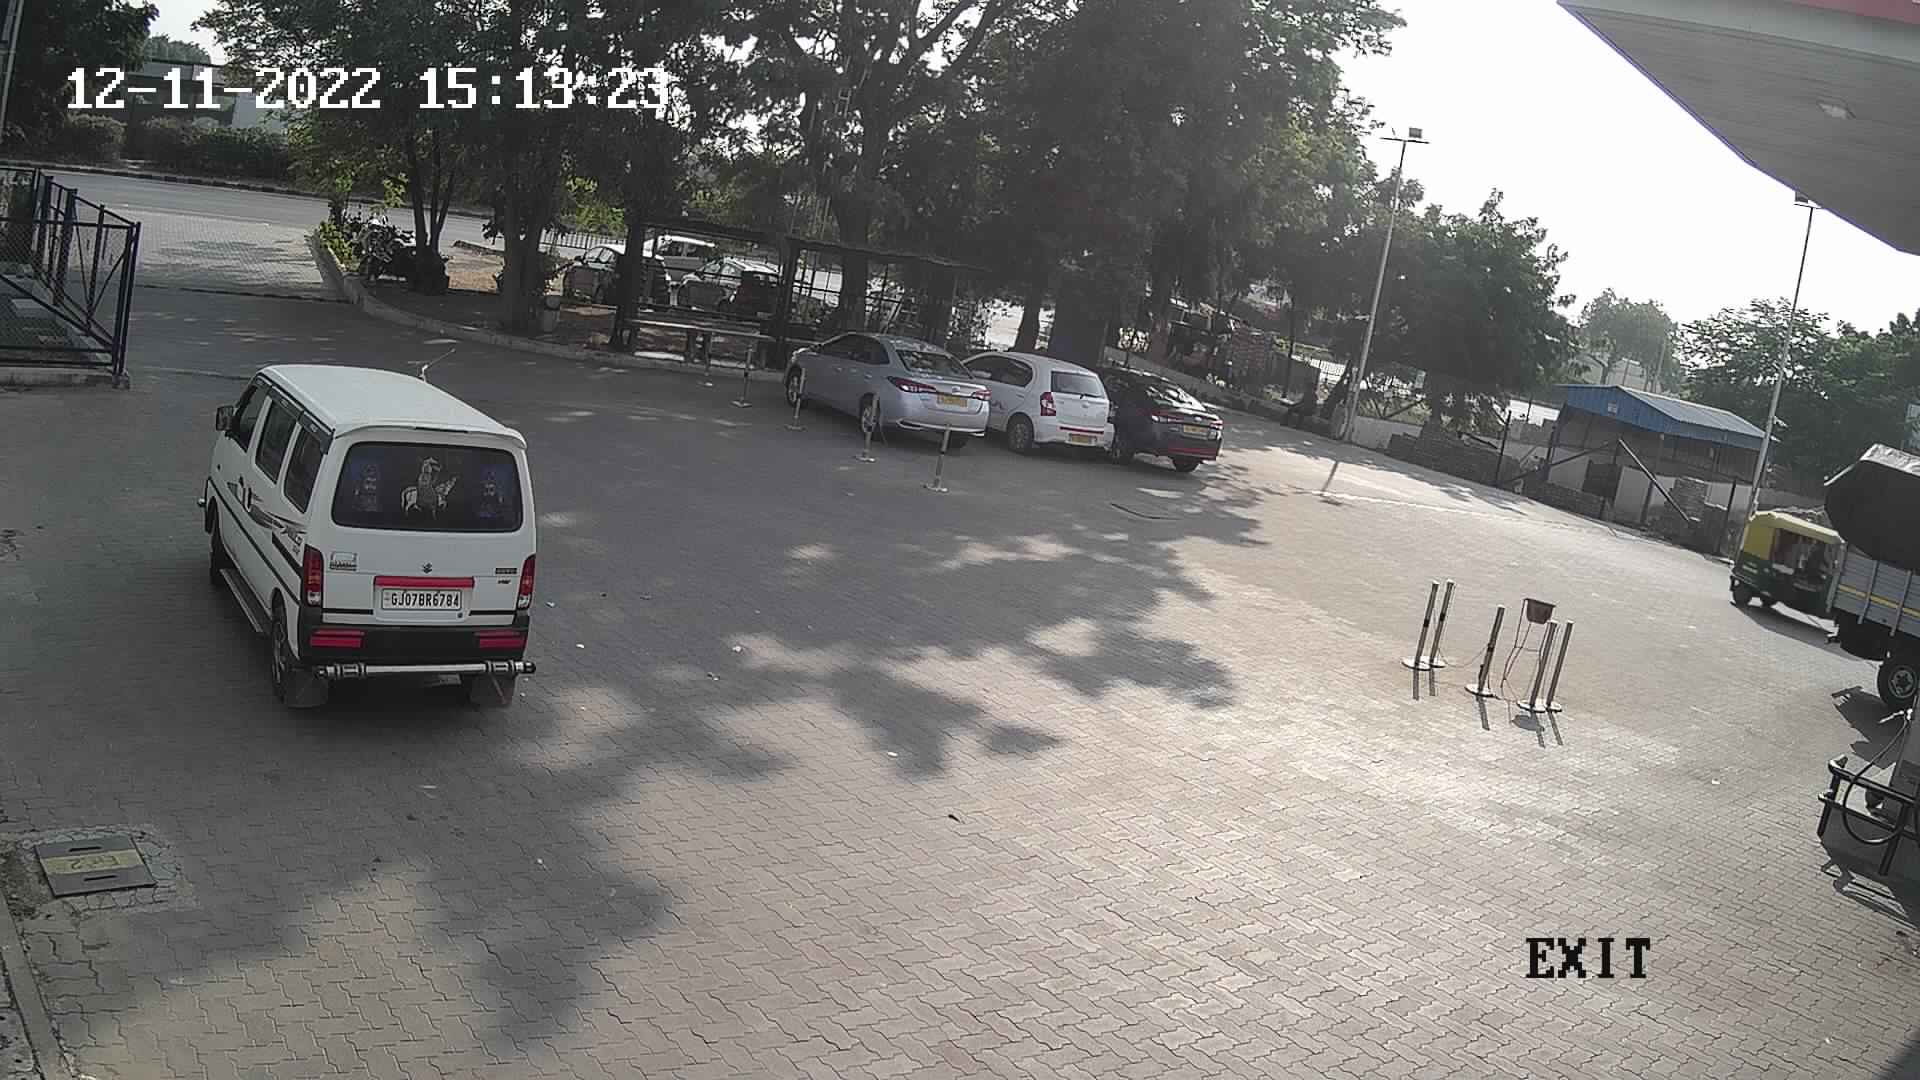Auto: (1718, 483, 1853, 624)
Car: (185, 348, 558, 708), (774, 315, 1029, 458), (920, 336, 1129, 462), (1085, 351, 1232, 492), (670, 248, 793, 323), (554, 229, 630, 307), (637, 224, 717, 293)
HMV: (1808, 422, 1913, 742)
